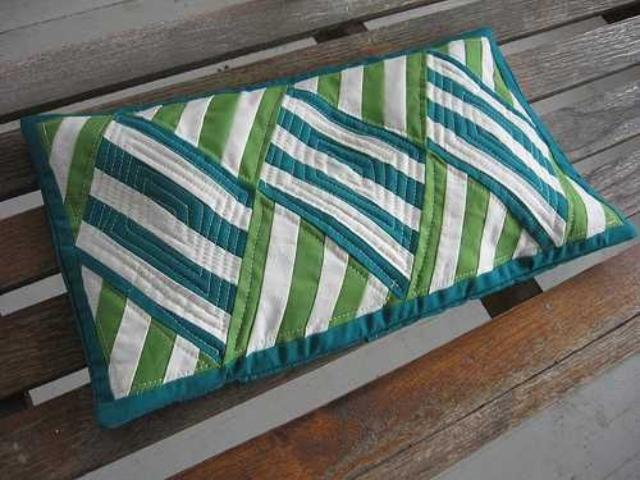pillow: (19, 25, 637, 428)
